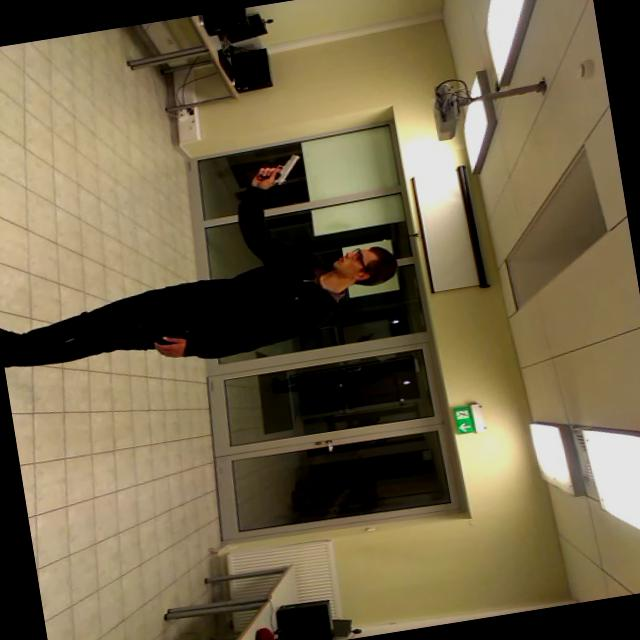handgun: (227, 146, 317, 205)
